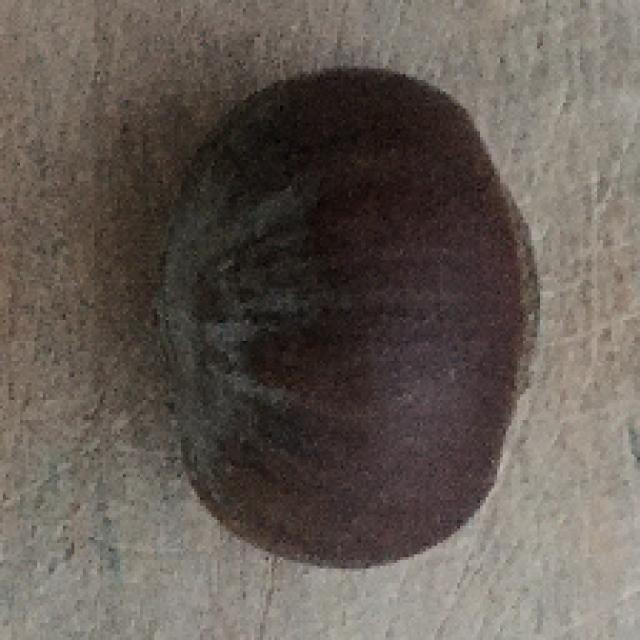damagedHazelnut: (149, 55, 542, 572)
